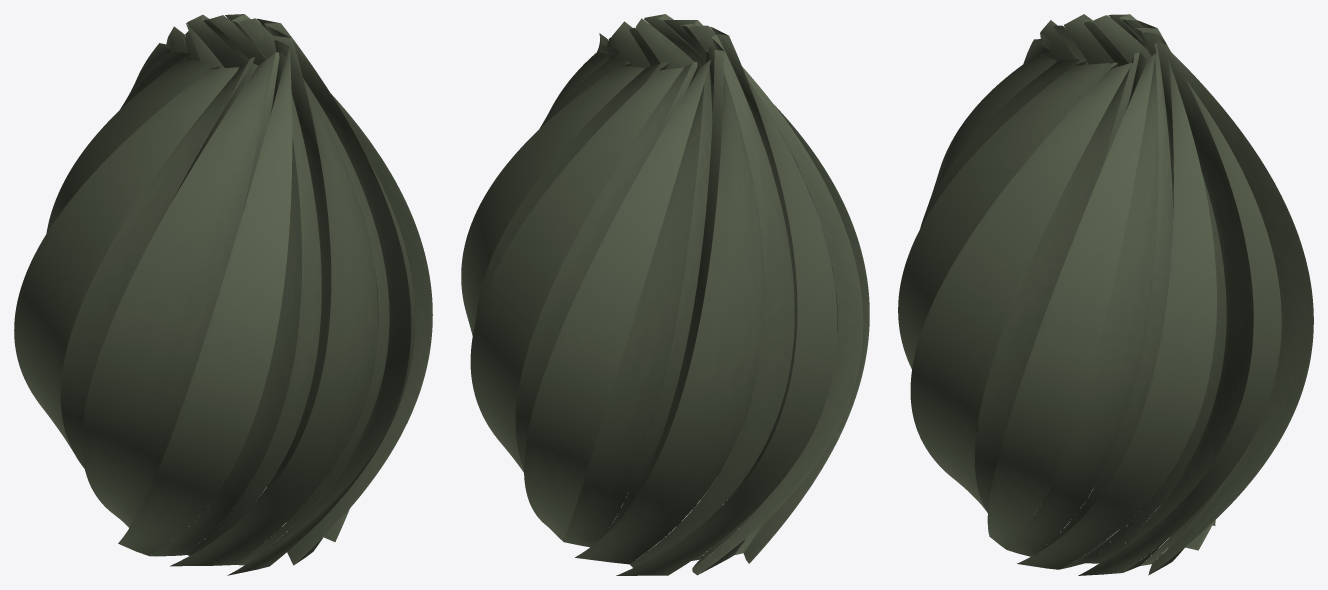
The model's file is blade-solo-5b644f.glb.
3 views of the same model, side by side, from view 1: azimuth 30°, elevation 25°; view 2: azimuth 150°, elevation 25°; view 3: azimuth 270°, elevation 25° (orthographic).
Visible parts, largest first — view 1: Blade; view 2: Blade; view 3: Blade.
Part boxes in pixels (x1,y1,x2,y2): Blade: (14, 14, 432, 575); Blade: (461, 14, 869, 575); Blade: (898, 14, 1313, 575).
Size of the model in its own units: 0.2775 by 0.37 by 0.2841.
